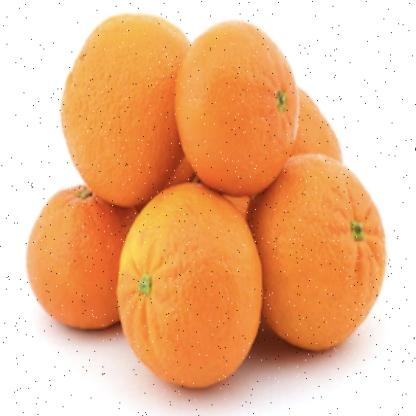fresh: (27, 15, 386, 390)
